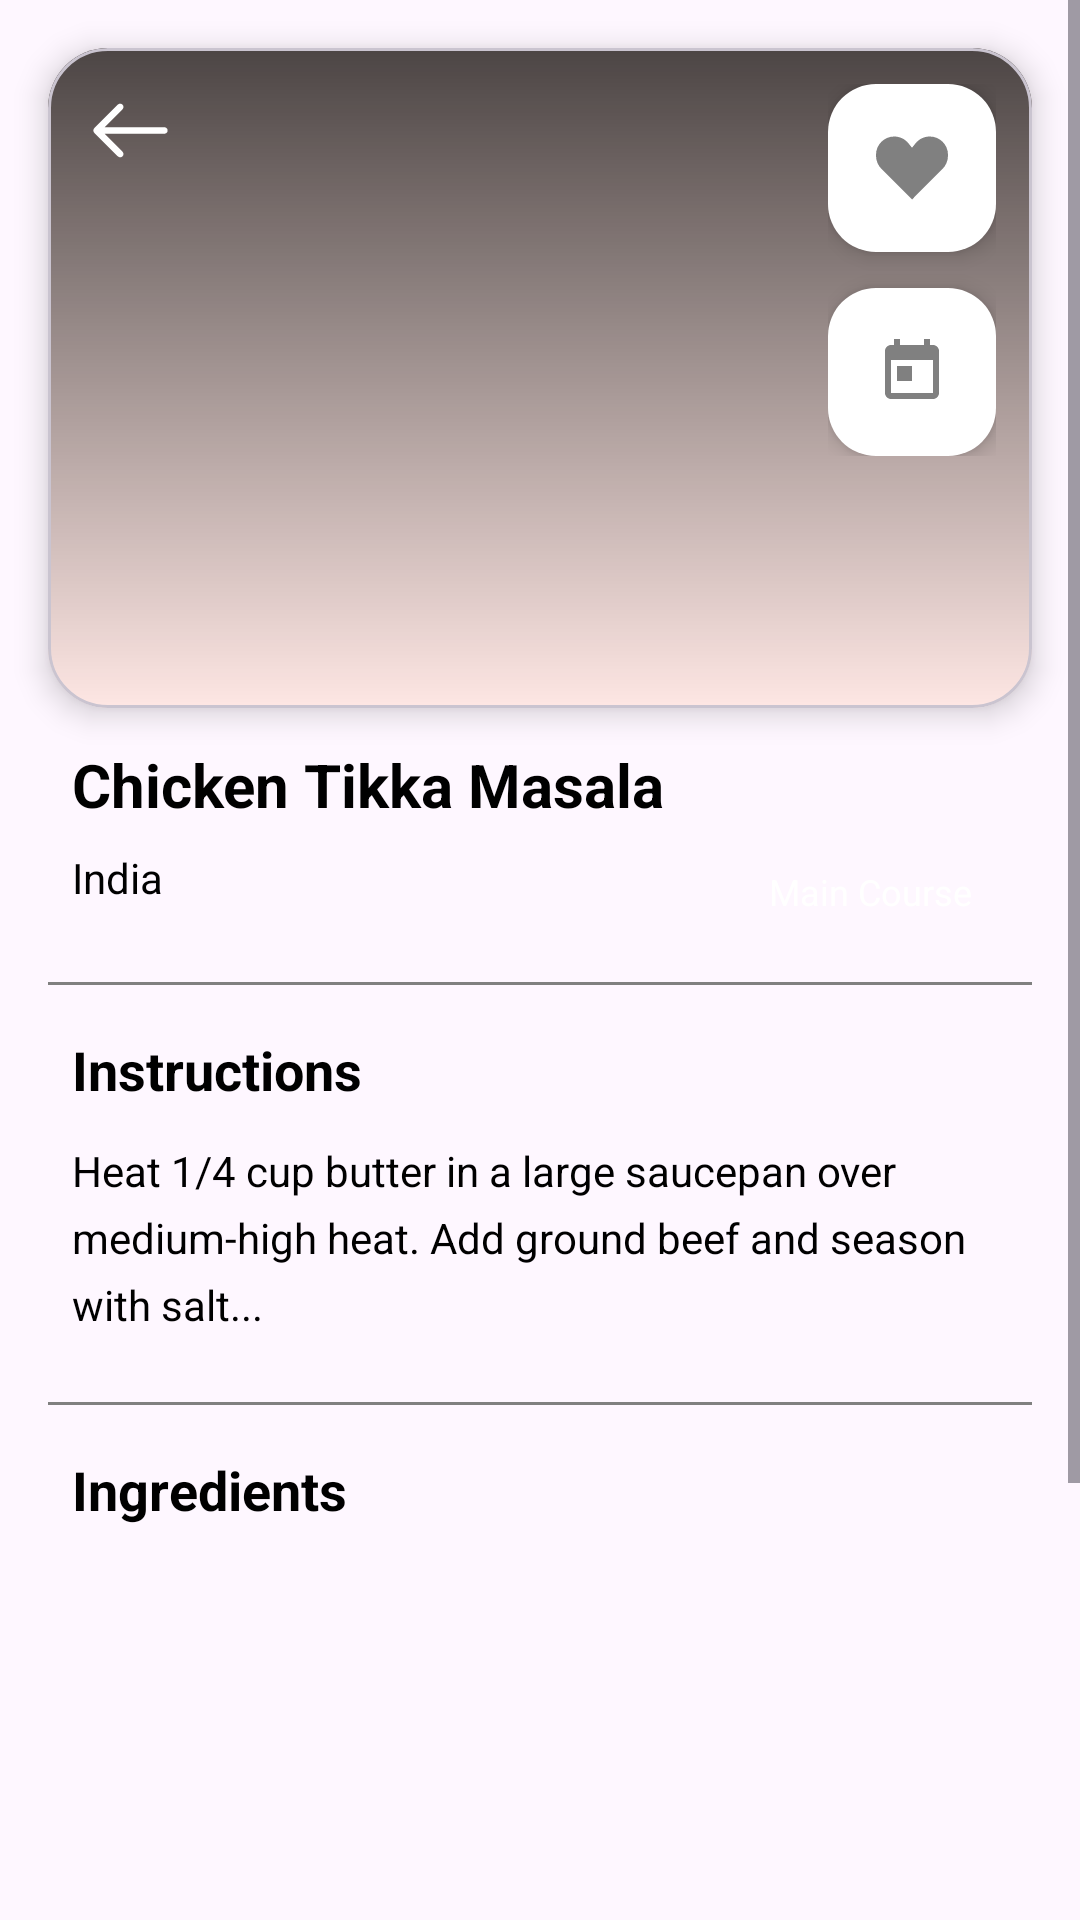

Screen size 1080 x 1920. Icon name, then its center in pixels as (x,y):
arrow back: (130,143)
calender: (912,372)
heart: (912,168)
